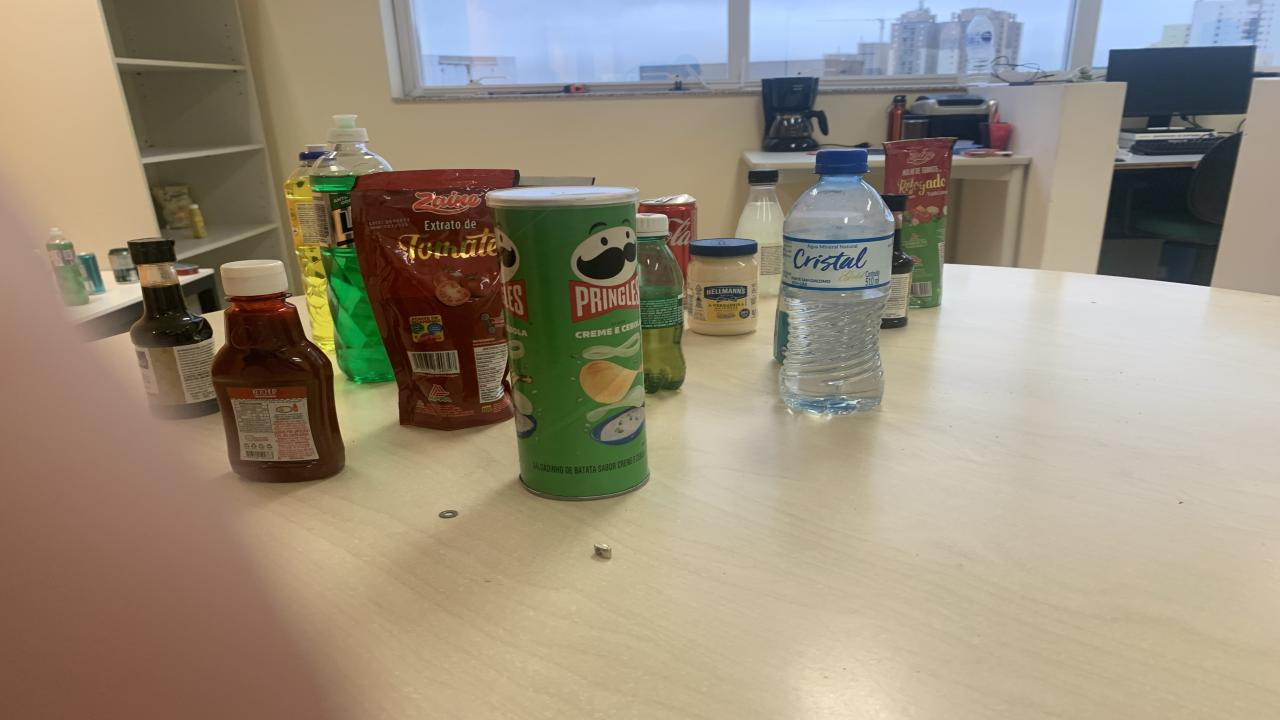Coke-Drinks: (638, 195, 698, 276)
Detergent-Cleanup_Items: (310, 114, 395, 382), (285, 144, 335, 351)
English_Sauce-Pantry_Items: (130, 238, 218, 420), (882, 193, 915, 328)
Guarana-Drinks: (635, 214, 685, 394)
Ketchup-Pantry_Items: (210, 261, 345, 482)
Mayonnaise-Pantry_Items: (688, 238, 758, 336)
Pringles-Snacks: (488, 188, 650, 501)
Soda-Drinks: (735, 169, 785, 296)
Tomato_Sauce-Pantry_Items: (352, 169, 520, 431), (885, 137, 952, 308)
Water_Bottle-Drinks: (780, 150, 895, 414)
